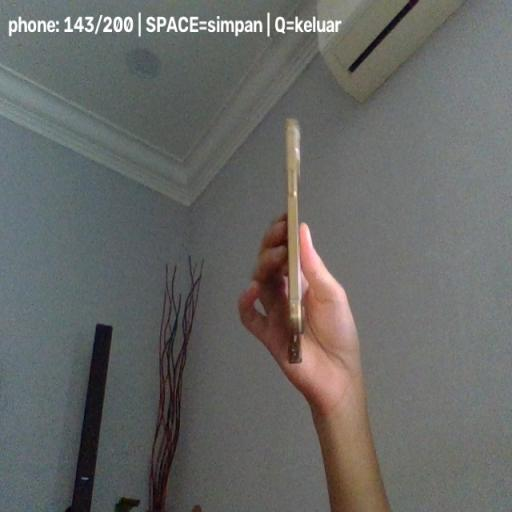Phone: (286, 117, 303, 365)
